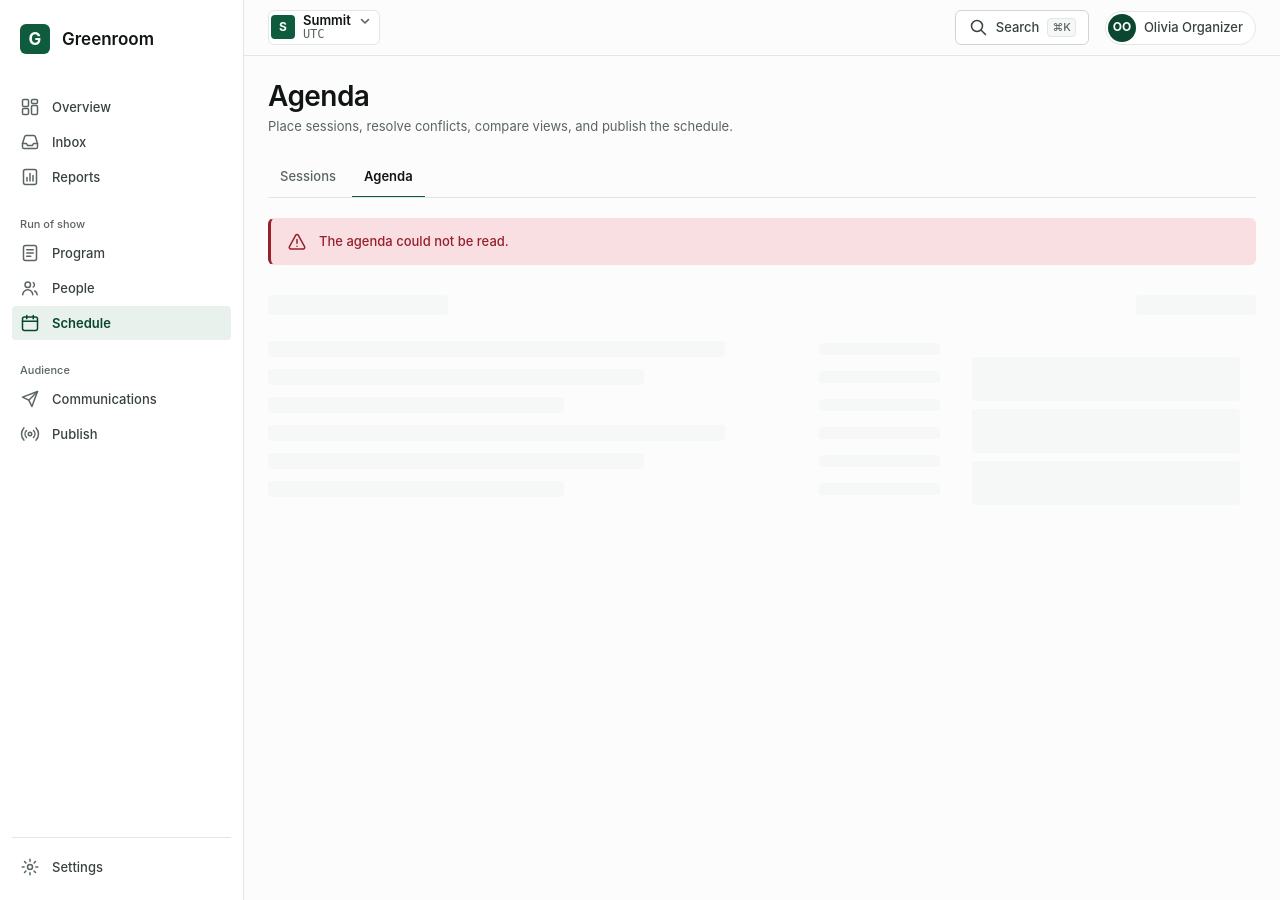
Test: where a failed load is explained › renders the board's failure above the board, and leaves it on the event it belongs to
Expected: the message "The agenda could not be read." is shown, [268,218,1256,266]
Press ArrowDown in the dropdown named "Event workspace", box [303,13,371,28]
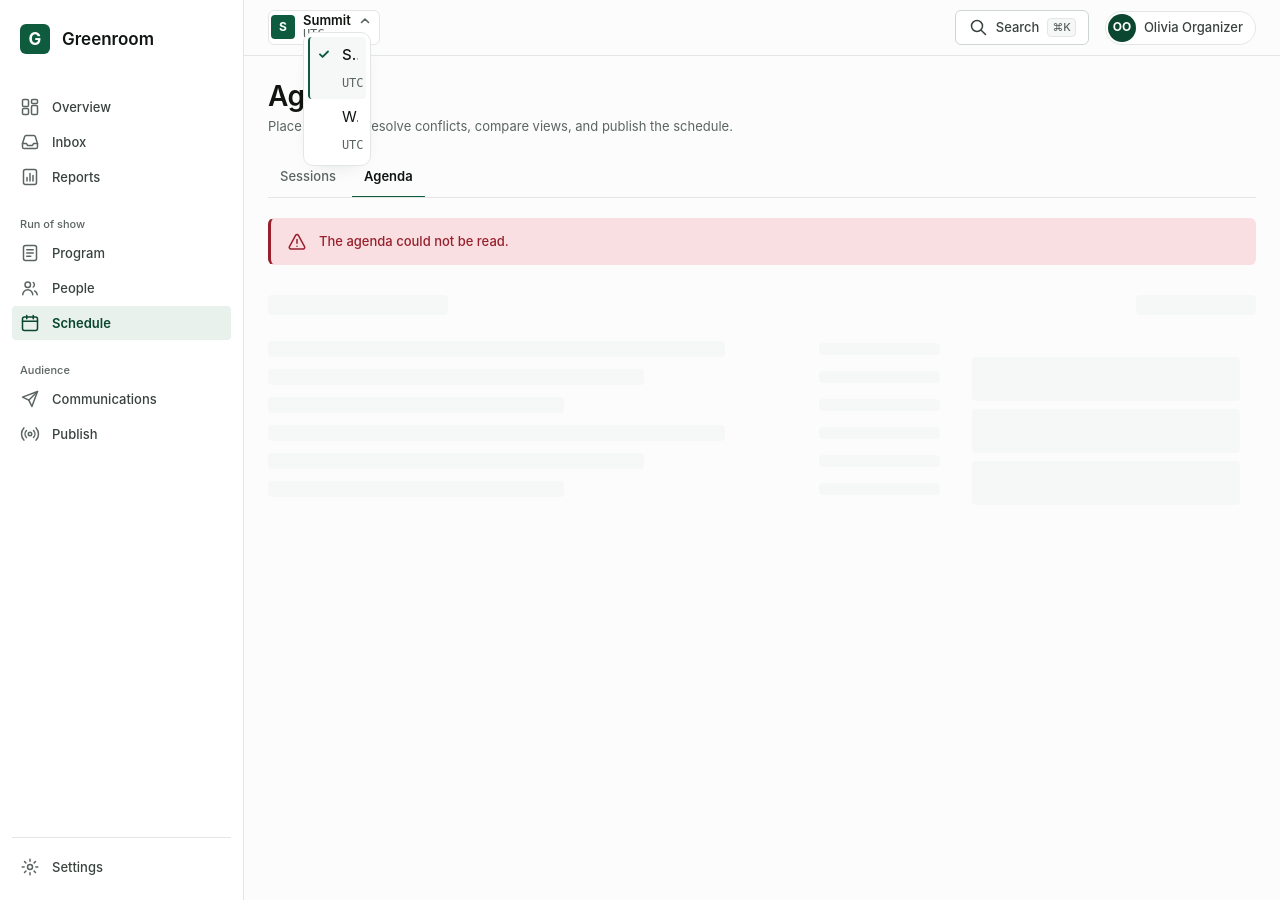
Click the option "Workshop Day UTC": [349, 116] box [308,99,366,161]
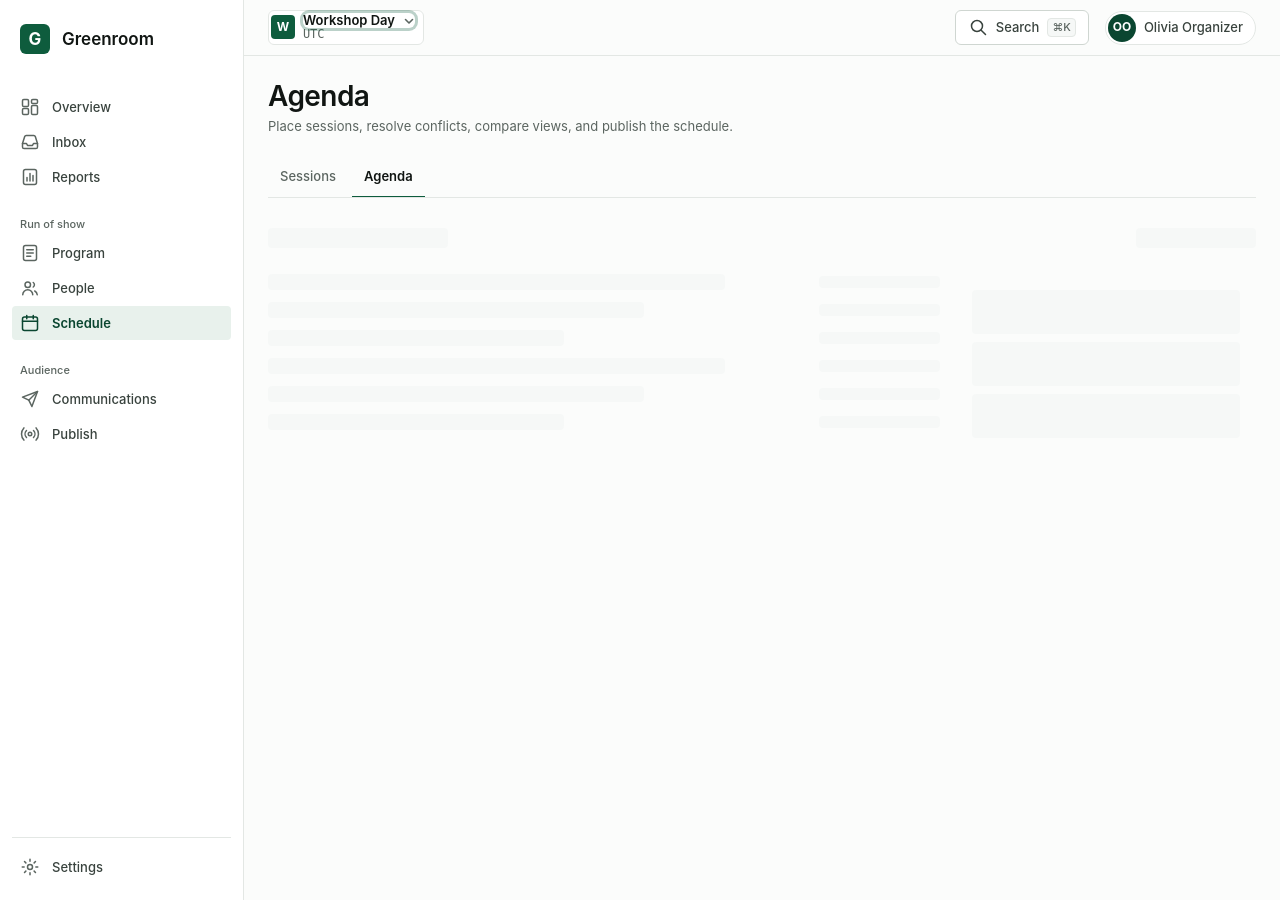
Result: the message "The agenda could not be read." is gone
